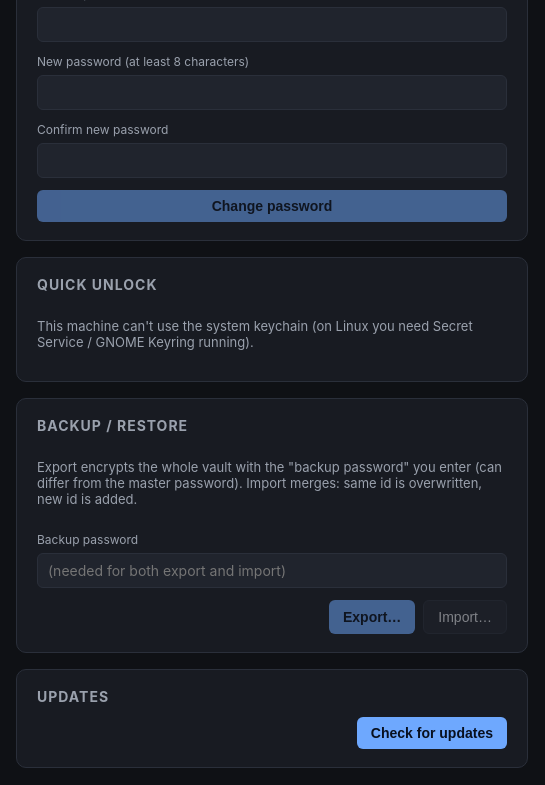
Test case: Settings — backup import › maps a wrong backup password on import
The width and height of the screenshot is (545, 785).
(page scrolled)
Type "guess" into the password field labelled "Backup password".
click(272, 570); type("guess")  # box [37, 553, 507, 588]
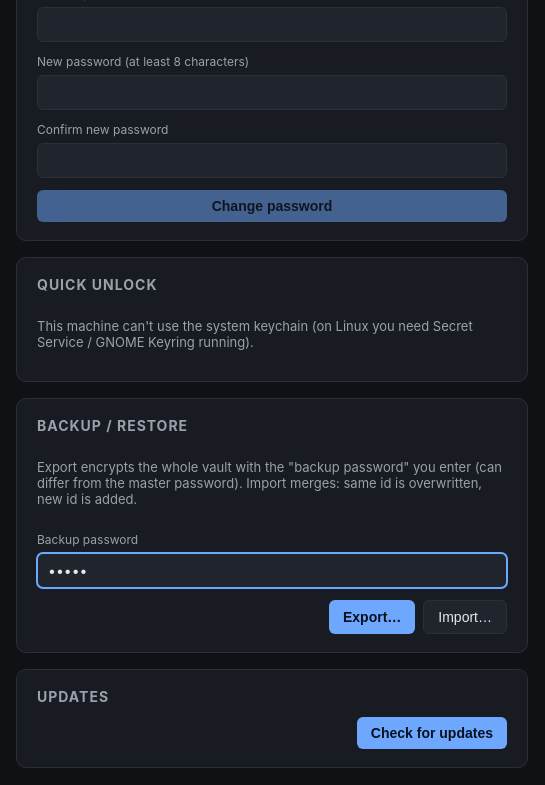
Click the button "Import…".
click(465, 617)  # box [423, 600, 507, 634]
(page scrolled)
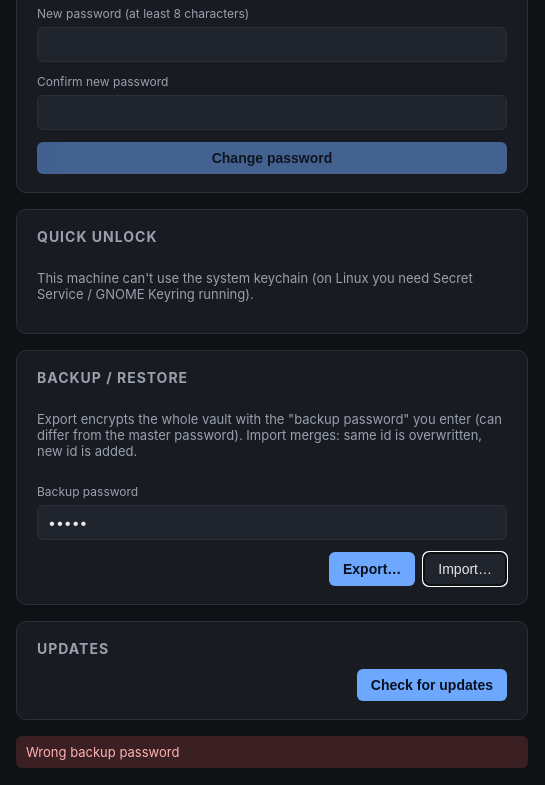
Expected: the text "Wrong backup password" is shown, [16, 736, 528, 768]
